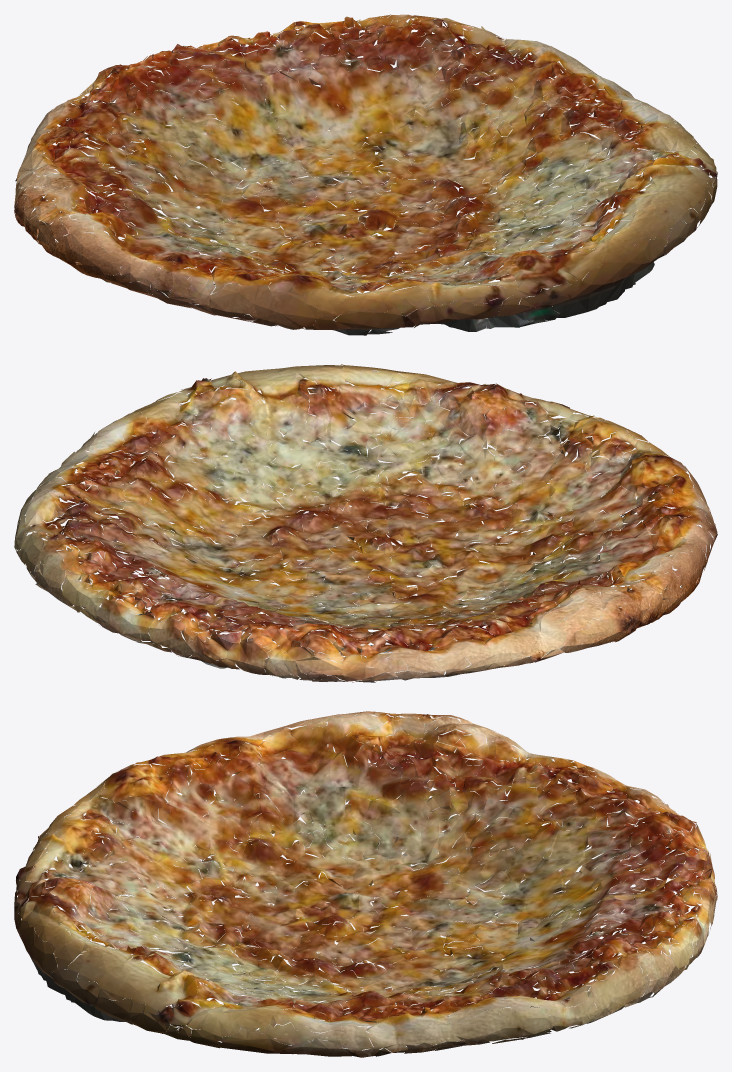
The model's file is cuatroQuesos-transformed.glb.
3 renders of one model, top to bottom at view 1: azimuth 30°, elevation 25°; view 2: azimuth 150°, elevation 25°; view 3: azimuth 270°, elevation 25°, orthographic. The views are drawn at different scales.
Parts seen in each view (by area): view 1: Mesh_0.001; view 2: Mesh_0.001; view 3: Mesh_0.001.
Part boxes in pixels (x1,y1,x2,y2): Mesh_0.001: (14, 14, 717, 335); Mesh_0.001: (14, 364, 717, 682); Mesh_0.001: (14, 711, 717, 1057).
Bounding box in the file's own units: 0.283 × 0.0321 × 0.2703.
Materials: 1 (1 with a texture image).
